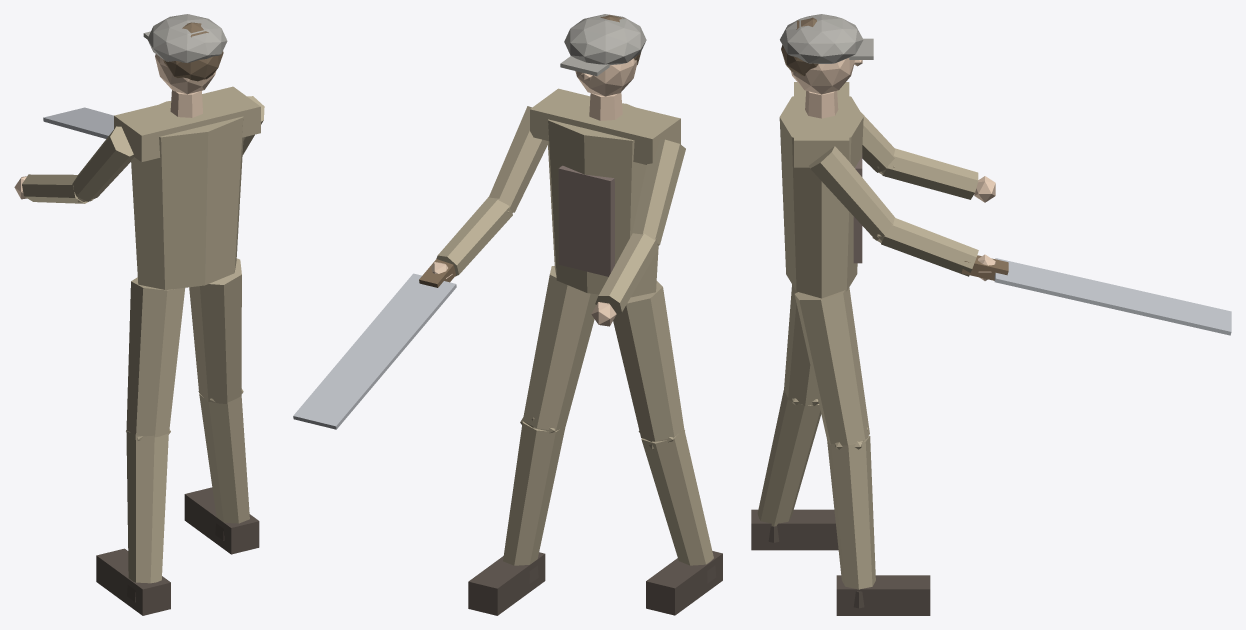
The model's file is townsman_saw.glb.
The picture shows the model from 3 angles, left to right: view 1: azimuth 30°, elevation 25°; view 2: azimuth 150°, elevation 25°; view 3: azimuth 270°, elevation 25°; orthographic projection. The views are drawn at different scales.
Parts seen in each view (by area): view 1: moleskin, boot, tweed_grey, skin, steel, hair; view 2: moleskin, steel, boot, waistcoat, tweed_grey, skin; view 3: moleskin, boot, steel, tweed_grey, skin.
Part boxes in pixels (x1,y1,x2,y2): moleskin: [22, 86, 264, 583]; boot: [96, 487, 259, 615]; tweed_grey: [143, 14, 227, 62]; skin: [14, 54, 215, 199]; steel: [43, 107, 113, 138]; hair: [163, 22, 223, 81]; moleskin: [436, 88, 713, 565]; steel: [293, 273, 456, 429]; boot: [468, 551, 722, 615]; waistcoat: [558, 165, 614, 276]; tweed_grey: [560, 14, 646, 76]; skin: [431, 58, 637, 326]; moleskin: [757, 82, 978, 589]; boot: [751, 509, 930, 615]; steel: [994, 258, 1231, 335]; tweed_grey: [780, 14, 873, 63]; skin: [791, 58, 995, 280].
Size of the model in its own units: 0.6384 by 1.77 by 1.38.
